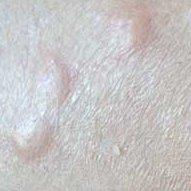Fleas: (27, 53, 81, 107), (7, 116, 61, 166), (117, 6, 152, 50)
